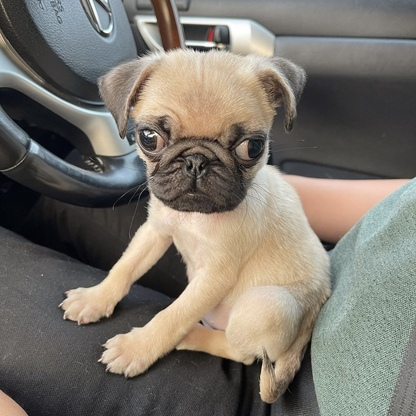Pug: (54, 42, 337, 409)
